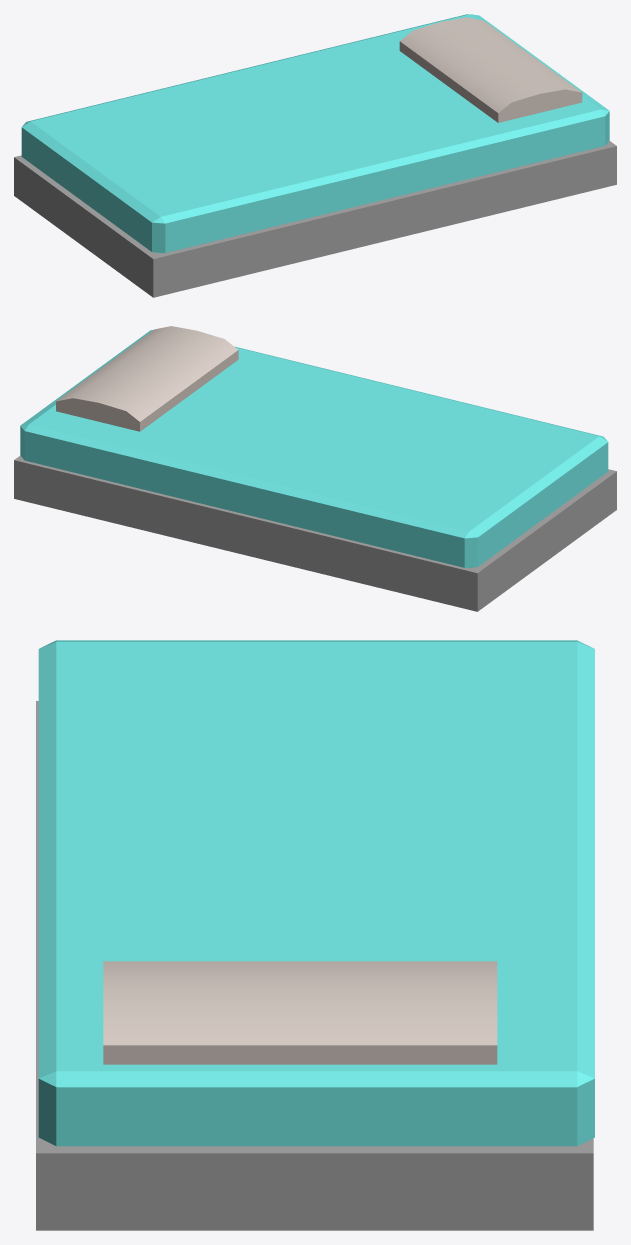
Rendered from Cama.FBX.
3 renders of one model, top to bottom at view 1: azimuth 30°, elevation 25°; view 2: azimuth 150°, elevation 25°; view 3: azimuth 270°, elevation 25°, orthographic. The views are drawn at different scales.
Parts seen in each view (by area): view 1: G_Cama; view 2: G_Cama; view 3: G_Cama.
Boxes of the visible parts, box(x1,y1,x2,y2) form: G_Cama: box(14, 14, 616, 297); G_Cama: box(14, 326, 616, 611); G_Cama: box(36, 640, 594, 1230).
Bounding box in the file's own units: 23.19 × 4.45 × 12.11.
